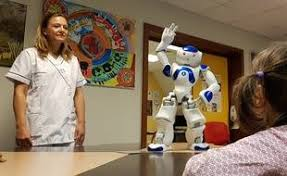nao: (147, 15, 225, 158)
